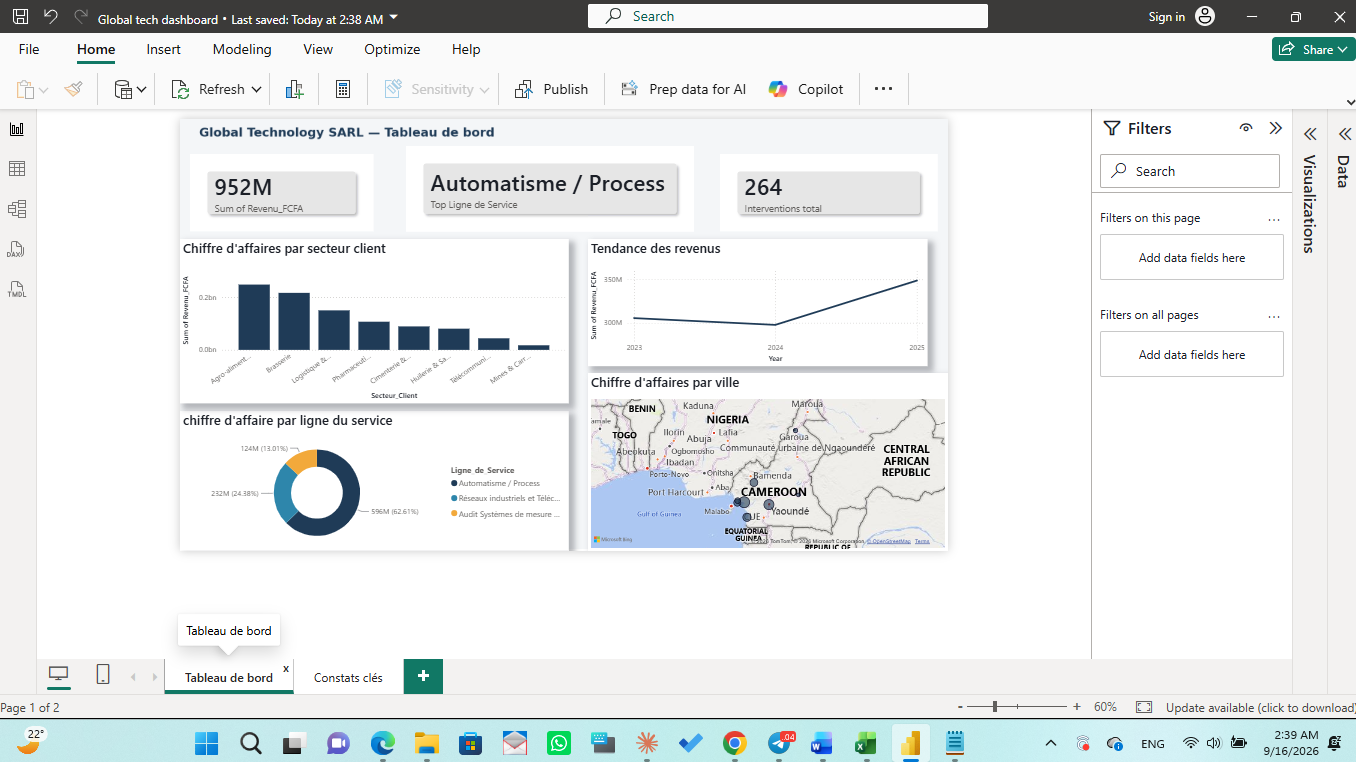

The page's visual inventory and layout, read from the dashboard file:
{"tool":"powerbi","page":{"name":"Tableau de bord","canvas":[1280,720],"ordinal":0},"visuals":[{"type":"lineChart","title":"Tendance des revenus","fields":{"Category":["Interventions.Date.Variation.Date Hierarchy.Year","Interventions.Date.Variation.Date Hierarchy.Quarter","Interventions.Date.Variation.Date Hierarchy.Month","Interventions.Date.Variation.Date Hierarchy.Day"],"Y":["Sum(Interventions.Revenu_FCFA)"]},"box":[680,200,566.1,211.7],"z":0},{"type":"map","title":"Chiffre d''affaires par ville","fields":{"Category":["Interventions.Ville"],"Size":["Sum(Interventions.Revenu_FCFA)"]},"box":[680.3,423.3,599.7,297.3],"z":1000},{"type":"donutChart","title":"chiffre d''affaire par ligne du service","fields":{"Category":["Interventions.Ligne_de_Service"],"Y":["Sum(Interventions.Revenu_FCFA)"]},"box":[0,487.1,648.4,233.5],"z":2000},{"type":"clusteredColumnChart","title":"Chiffre d''affaires par secteur client","fields":{"Category":["Interventions.Secteur_Client"],"Y":["Sum(Interventions.Revenu_FCFA)"]},"box":[0,199.9,648.4,273.8],"z":3000},{"type":"cardVisual","fields":{"Data":["Sum(Interventions.Revenu_FCFA)"]},"box":[16.8,58.8,305.7,129.3],"z":4000},{"type":"cardVisual","fields":{"Data":["Interventions.Top Ligne de Service"]},"box":[376.7,45,480.4,142.8],"z":5000},{"type":"cardVisual","fields":{"Data":["Interventions.Total Interventions"]},"box":[900.4,58.8,362.8,129.3],"z":6000}]}

Visuals, with their boxes on the page's 1280x720 design canvas (x1, y1, x2, y2). These are canvas units, not pixel positions in the 1356x762 screenshot, which may show the page scaled, cropped or inside an application window:
"Tendance des revenus" lineChart: select_region(680, 200, 1246, 412)
"Chiffre d''affaires par ville" map: select_region(680, 423, 1280, 721)
"chiffre d''affaire par ligne du service" donutChart: select_region(0, 487, 648, 721)
"Chiffre d''affaires par secteur client" clusteredColumnChart: select_region(0, 200, 648, 474)
cardVisual - Sum(Interventions.Revenu_FCFA): select_region(17, 59, 322, 188)
cardVisual - Interventions.Top Ligne de Service: select_region(377, 45, 857, 188)
cardVisual - Interventions.Total Interventions: select_region(900, 59, 1263, 188)
